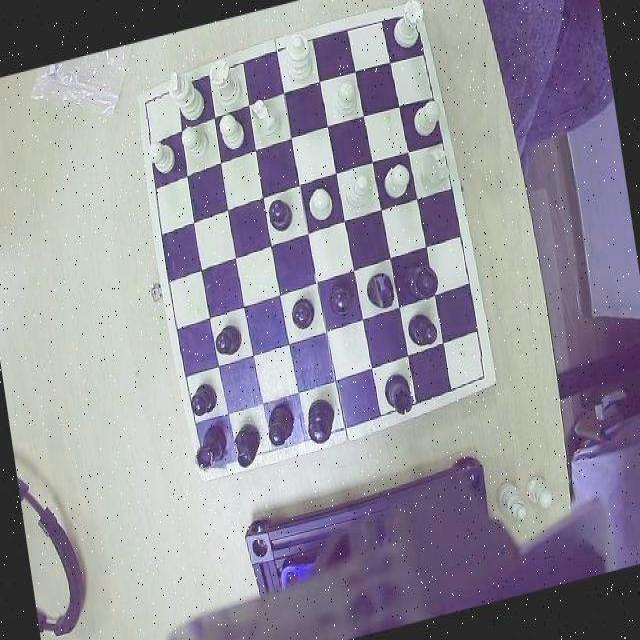chess-table-corners: (194, 441, 230, 479), (459, 355, 494, 390), (394, 4, 426, 36), (138, 88, 164, 120)
